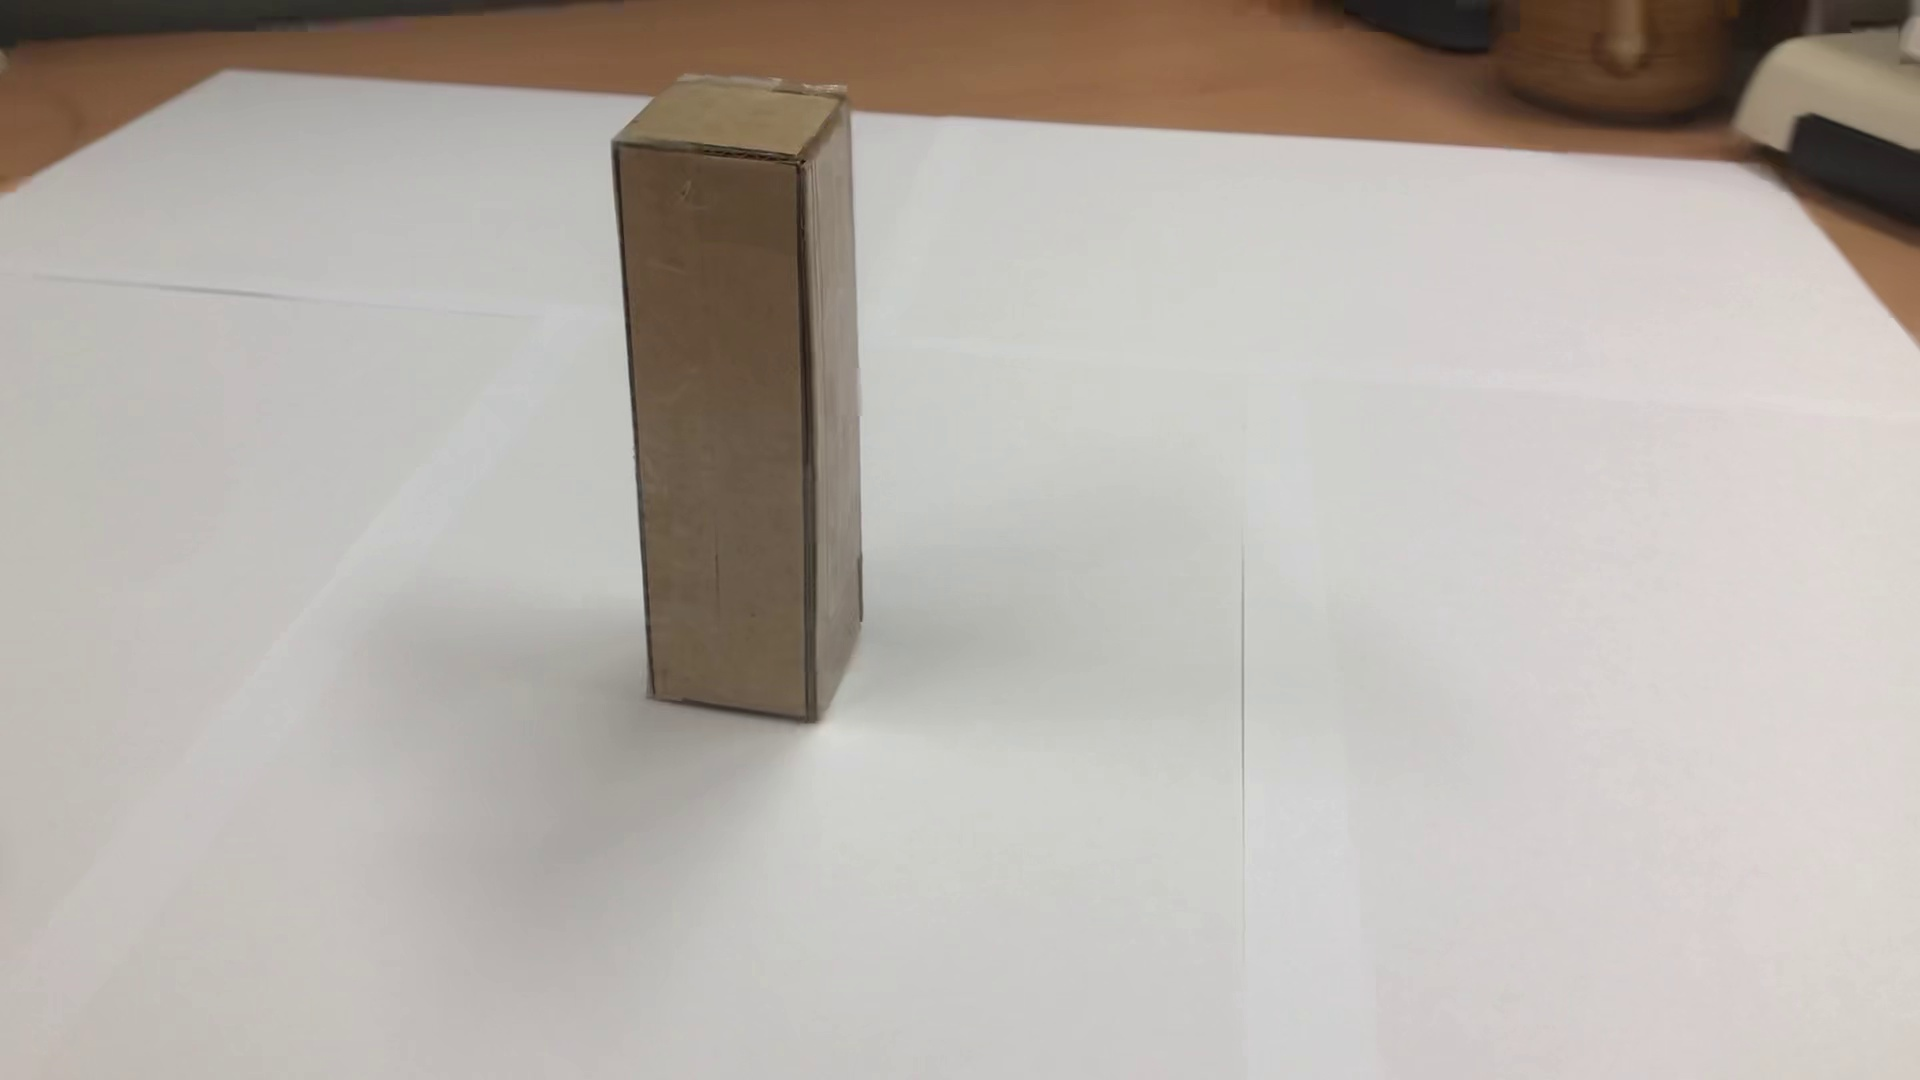box: (593, 61, 880, 767)
